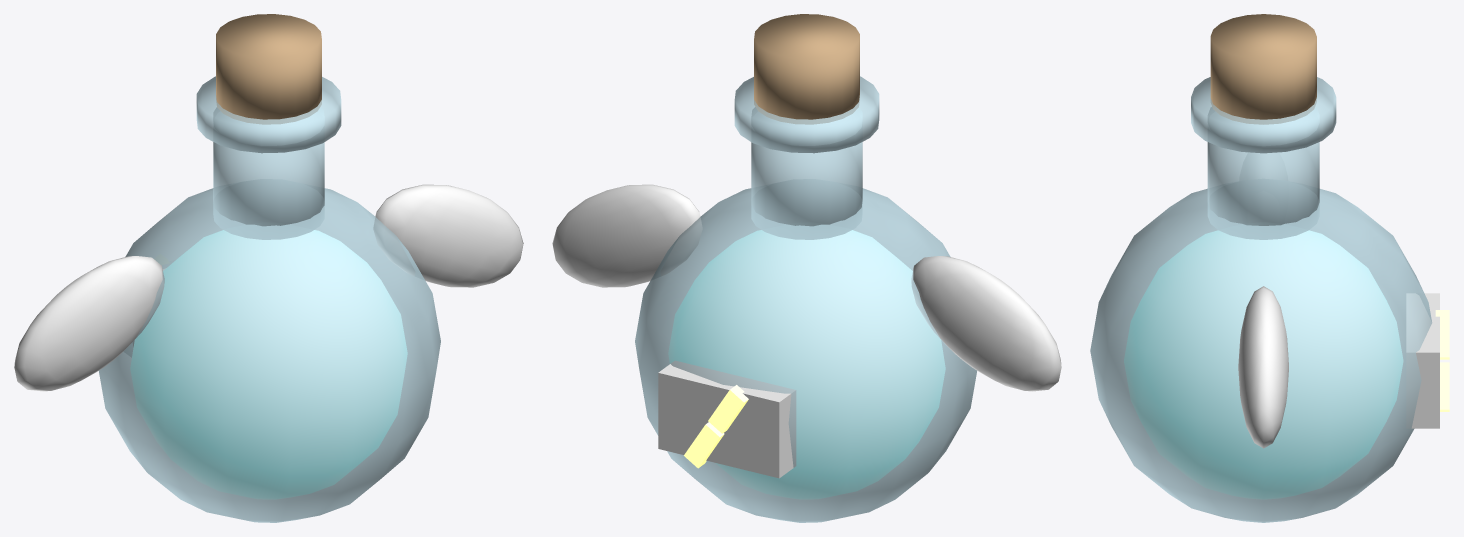
File: SpeedPotion.fbx
The picture shows the model from 3 angles, left to right: view 1: azimuth 30°, elevation 25°; view 2: azimuth 150°, elevation 25°; view 3: azimuth 270°, elevation 25°; orthographic projection.
Parts seen in each view (by area): view 1: SpeedPotion.Body, SpeedPotion.Liquid, SpeedPotion.WingL, SpeedPotion.Neck, SpeedPotion.WingR, SpeedPotion.Cork, SpeedPotion.Lip; view 2: SpeedPotion.Body, SpeedPotion.Liquid, SpeedPotion.WingL, SpeedPotion.Neck, SpeedPotion.WingR, SpeedPotion.Label, SpeedPotion.Cork, SpeedPotion.Lip, SpeedPotion.BoltTop, SpeedPotion.BoltBottom; view 3: SpeedPotion.Body, SpeedPotion.Liquid, SpeedPotion.Neck, SpeedPotion.Cork, SpeedPotion.WingR, SpeedPotion.Lip, SpeedPotion.Label, SpeedPotion.BoltTop, SpeedPotion.BoltBottom.
Boxes of the visible parts, bbox=[...] form: SpeedPotion.Body: bbox=[99, 179, 440, 522]; SpeedPotion.Liquid: bbox=[130, 230, 407, 499]; SpeedPotion.WingL: bbox=[14, 256, 164, 391]; SpeedPotion.Neck: bbox=[213, 107, 324, 239]; SpeedPotion.WingR: bbox=[373, 184, 523, 287]; SpeedPotion.Cork: bbox=[216, 14, 321, 124]; SpeedPotion.Lip: bbox=[196, 76, 341, 153]; SpeedPotion.Body: bbox=[635, 179, 976, 522]; SpeedPotion.Liquid: bbox=[668, 230, 945, 499]; SpeedPotion.WingL: bbox=[911, 256, 1061, 391]; SpeedPotion.Neck: bbox=[751, 107, 862, 239]; SpeedPotion.WingR: bbox=[552, 184, 702, 287]; SpeedPotion.Label: bbox=[658, 361, 795, 478]; SpeedPotion.Cork: bbox=[754, 14, 859, 124]; SpeedPotion.Lip: bbox=[734, 76, 879, 153]; SpeedPotion.BoltTop: bbox=[708, 385, 748, 433]; SpeedPotion.BoltBottom: bbox=[684, 422, 724, 468]; SpeedPotion.Body: bbox=[1090, 179, 1432, 522]; SpeedPotion.Liquid: bbox=[1124, 230, 1403, 499]; SpeedPotion.Neck: bbox=[1207, 107, 1319, 239]; SpeedPotion.Cork: bbox=[1210, 14, 1316, 124]; SpeedPotion.WingR: bbox=[1238, 286, 1288, 448]; SpeedPotion.Lip: bbox=[1191, 77, 1336, 153]; SpeedPotion.Label: bbox=[1406, 293, 1439, 428]; SpeedPotion.BoltTop: bbox=[1435, 310, 1449, 359]; SpeedPotion.BoltBottom: bbox=[1440, 362, 1449, 411].
Size of the model in its own units: 2.1 by 1.86 by 1.28.
